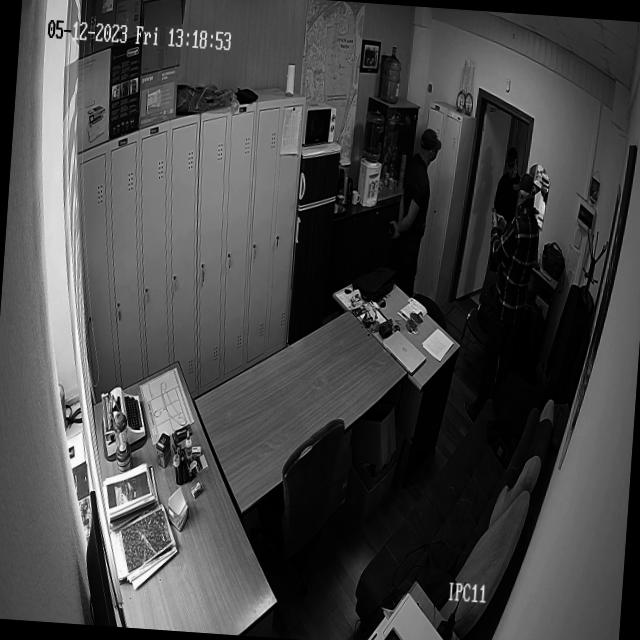person: (461, 166, 546, 432), (382, 124, 444, 296)
